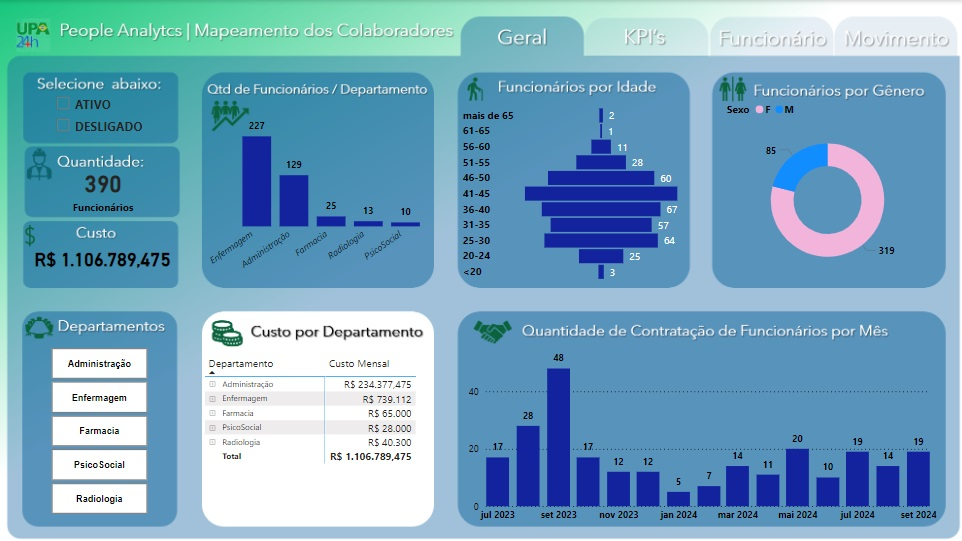

Layout of this report page (visuals, bound fields, positions):
{"tool":"powerbi","page":{"name":"Geral","canvas":[1280,720],"ordinal":0},"visuals":[{"type":"card","fields":{"Values":["Count(Geral.ID)"]},"box":[45.6,208.9,182.2,81.1],"z":0},{"type":"clusteredColumnChart","fields":{"Category":["Geral.Departamento"],"Y":["CountNonNull(Geral.ID)"]},"box":[266.6,140.1,314.4,234.7],"z":1000},{"type":"funnel","fields":{"Category":["Geral.Faixa Etária"],"Y":["CountNonNull(Geral.ID)"]},"box":[606.7,135.6,297.8,238.9],"z":2000},{"type":"donutChart","fields":{"Category":["Geral.Sexo"],"Y":["CountNonNull(Geral.Sexo)"]},"box":[954.4,123.3,275.6,251.1],"z":3000},{"type":"pivotTable","fields":{"Rows":["Geral.Departamento","Geral.Cargo"],"Values":["Sum(Geral.Salário)"]},"box":[266.6,463.7,303,221],"z":4000},{"type":"clusteredColumnChart","fields":{"Y":["Sum(Turnover.Admissões)"],"Category":["Turnover.Mês"]},"box":[614.4,450,626.7,247.8],"z":5000},{"type":"slicer","fields":{"Values":["Geral.Departamento"]},"box":[43.3,452.2,175.6,232.2],"z":6000},{"type":"slicer","fields":{"Values":["Geral.Status"]},"box":[63.3,116.7,135.6,74.4],"z":7000},{"type":"pageNavigator","box":[612.2,20.9,649.3,55.7],"z":8000},{"type":"card","fields":{"Values":["Sum(Geral.Salário)"]},"box":[36.5,307.6,199.4,69.5],"z":9000}]}

Visuals, with their boxes in screenshot pixels (x1, y1, x2, y2), scaled from the page's 1280x720 canvas onto the 962x541 screenshot:
card - Count(Geral.ID): (34,157,171,218)
clusteredColumnChart - Geral.Departamento x CountNonNull(Geral.ID): (200,105,437,282)
funnel - Geral.Faixa Etária x CountNonNull(Geral.ID): (456,102,680,281)
donutChart - Geral.Sexo x CountNonNull(Geral.Sexo): (717,93,924,281)
pivotTable - Geral.Departamento x Geral.Cargo: (200,348,428,514)
clusteredColumnChart - Sum(Turnover.Admissões) x Turnover.Mês: (462,338,933,524)
slicer - Geral.Departamento: (33,340,165,514)
slicer - Geral.Status: (48,88,149,144)
pageNavigator: (460,16,948,58)
card - Sum(Geral.Salário): (27,231,177,283)
